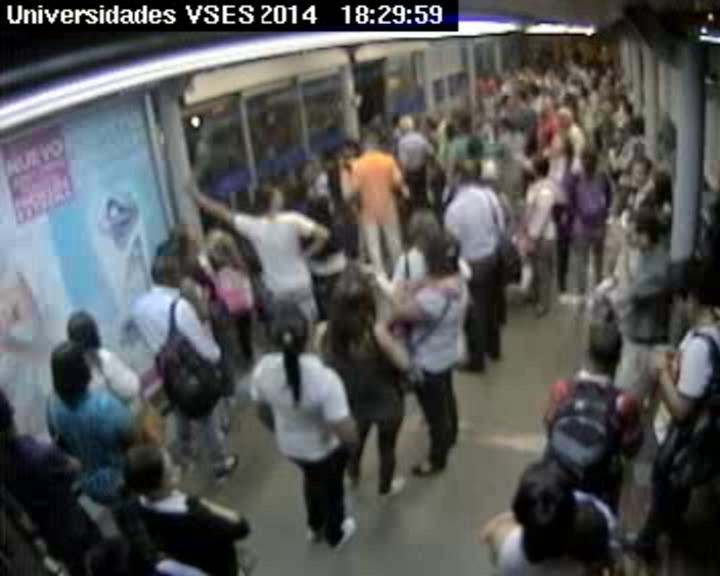person: (517, 463, 582, 535), (124, 448, 181, 501), (668, 265, 717, 319), (328, 267, 374, 318), (50, 343, 97, 390), (585, 325, 628, 374), (269, 303, 312, 350), (1, 389, 34, 437), (624, 207, 662, 248), (426, 237, 464, 275), (68, 312, 102, 347), (406, 209, 437, 244), (153, 252, 184, 285), (306, 195, 334, 223), (452, 159, 479, 188), (202, 200, 228, 228), (313, 150, 338, 177), (262, 182, 287, 209), (172, 227, 197, 253), (211, 239, 234, 263), (616, 185, 637, 208), (359, 129, 380, 151), (654, 173, 674, 195), (550, 134, 570, 156), (633, 160, 652, 183), (565, 75, 585, 94), (298, 161, 316, 182), (493, 148, 511, 167), (467, 137, 485, 155), (581, 150, 598, 169), (533, 160, 550, 178), (399, 116, 416, 134), (485, 177, 502, 195), (557, 108, 573, 125), (594, 111, 611, 127), (544, 66, 559, 81), (542, 97, 556, 113), (586, 92, 600, 108), (561, 92, 576, 106), (627, 120, 640, 136), (571, 51, 584, 65), (498, 119, 511, 133), (461, 116, 474, 130), (472, 112, 485, 126), (600, 75, 613, 88), (516, 92, 528, 106), (423, 115, 435, 129), (444, 125, 456, 139), (455, 115, 466, 130), (588, 66, 600, 78), (613, 130, 624, 142), (390, 113, 401, 125), (580, 86, 590, 97), (435, 111, 445, 121), (605, 66, 614, 77), (623, 104, 632, 115), (530, 86, 539, 97), (502, 95, 511, 106), (521, 66, 531, 75), (481, 72, 490, 81), (504, 69, 513, 78), (618, 96, 626, 105)
